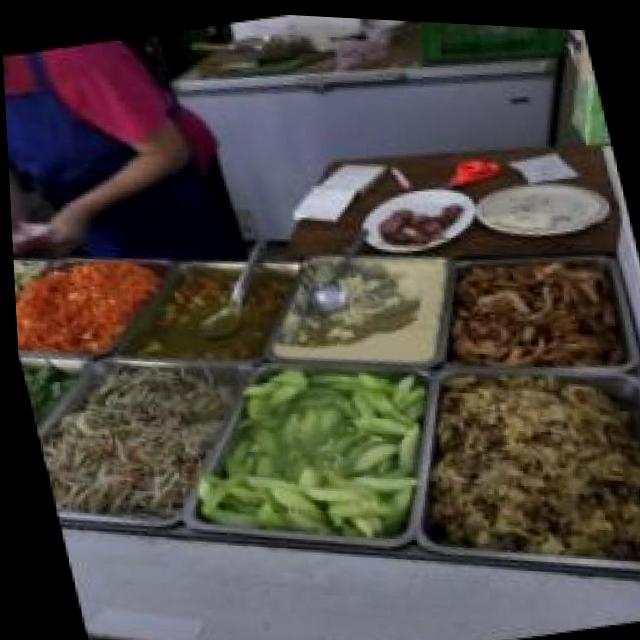carrot_eggs: (10, 254, 137, 362)
chinese_sausage: (377, 190, 467, 247)
curry: (129, 263, 306, 373)
fried_eggs: (487, 198, 559, 235)
mung_bean_sprouts: (29, 356, 231, 527)
